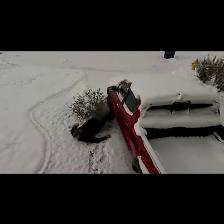person: (71, 112, 110, 142)
